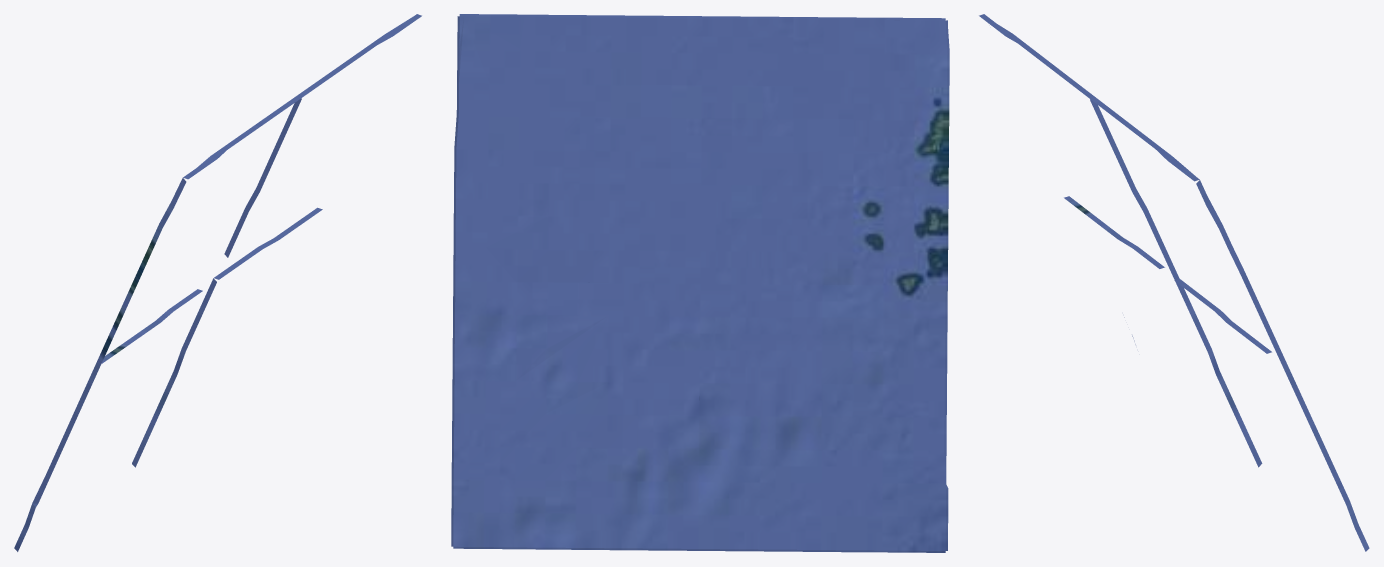
3 views of the same model, side by side, from view 1: azimuth 30°, elevation 25°; view 2: azimuth 150°, elevation 25°; view 3: azimuth 270°, elevation 25° (orthographic). The views are drawn at different scales.
Bounding box in the file's own units: 157806 × 145419 × 125270.
1 material, 1 textured.
